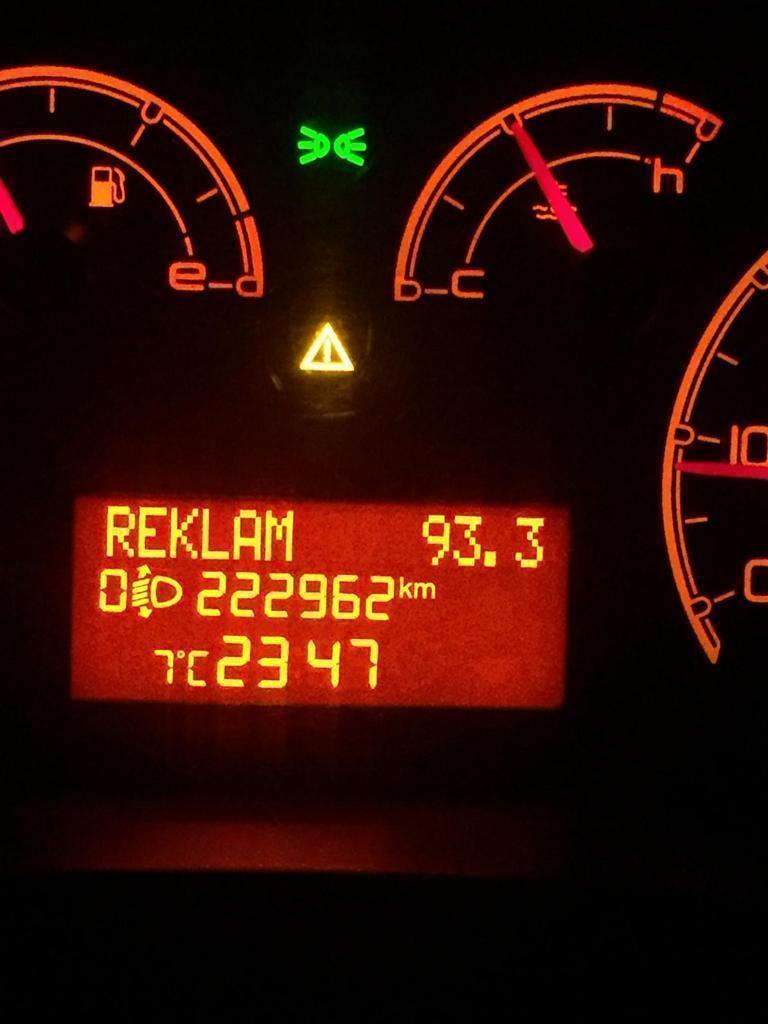,: (483, 549, 497, 568)
0: (98, 568, 129, 613)
2: (214, 633, 251, 688), (195, 570, 227, 617), (229, 570, 260, 618), (263, 572, 294, 619), (364, 574, 395, 621)
3: (256, 634, 290, 689), (452, 515, 482, 568), (515, 516, 544, 568)
4: (305, 638, 342, 689)
6: (330, 573, 361, 620)
7: (349, 637, 379, 689), (152, 648, 174, 685)
9: (422, 513, 452, 566), (298, 574, 328, 619)
X: (167, 506, 199, 560), (263, 508, 295, 562), (105, 504, 136, 558), (200, 506, 230, 560), (138, 505, 168, 558), (233, 508, 261, 560), (186, 650, 210, 688), (413, 581, 436, 599), (399, 575, 413, 599)
odometer: (63, 487, 578, 716)
